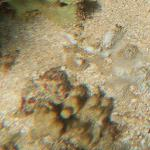dead: (5, 4, 145, 148)
